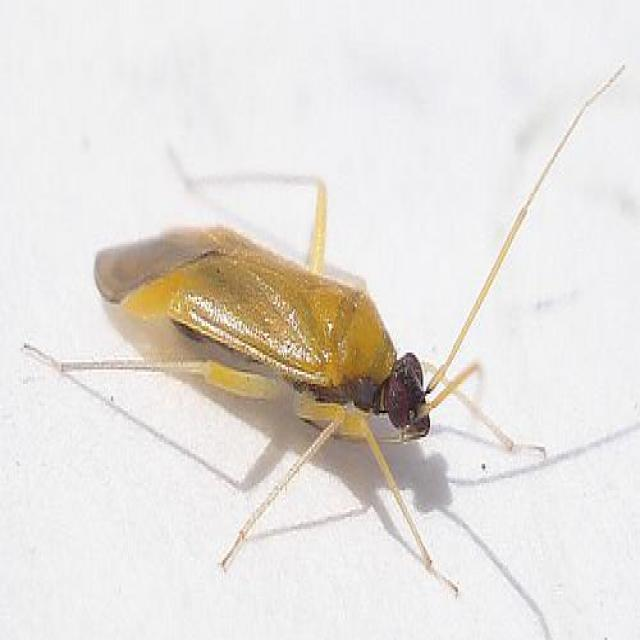Miridae-Adult-: (62, 106, 571, 621)
